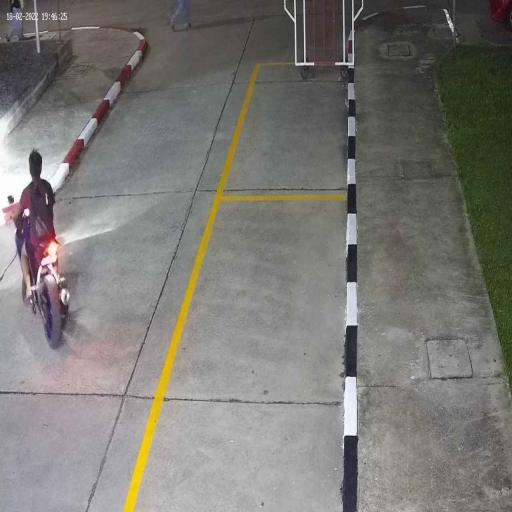motorcycle: (7, 190, 71, 350)
